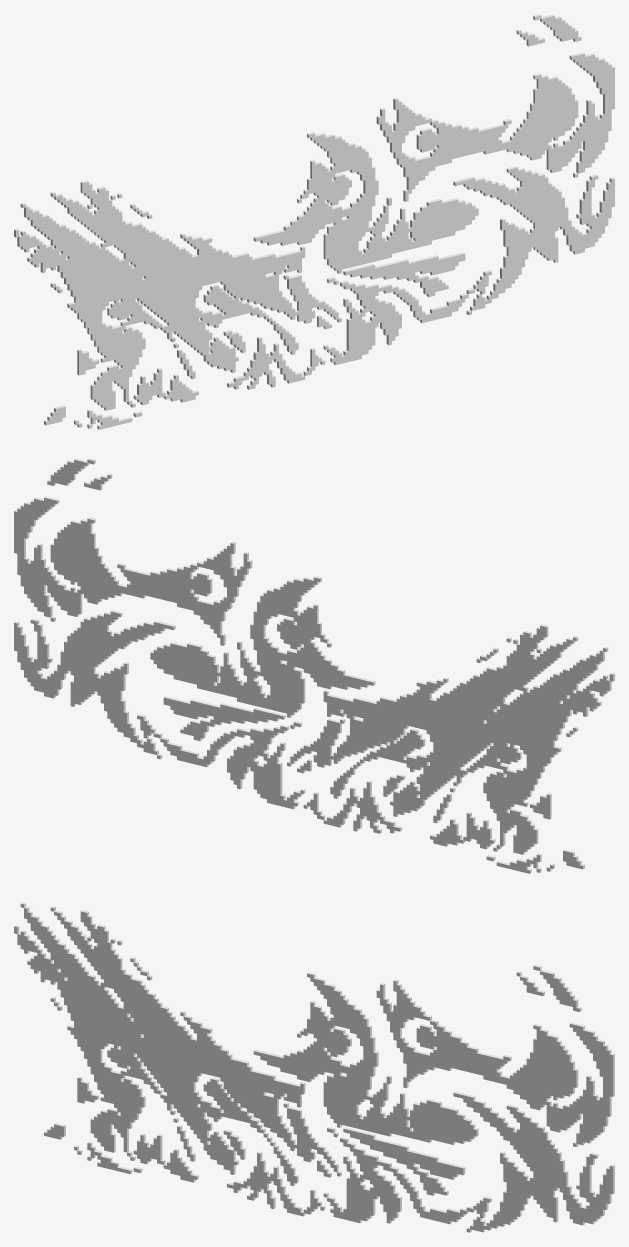
File: Fight_760_2_07_fx.obj
3 renders of one model, top to bottom at view 1: azimuth 30°, elevation 25°; view 2: azimuth 150°, elevation 25°; view 3: azimuth 330°, elevation 25°, orthographic.
Size of the model in its own units: 18 by 8.8 by 0.1.
1 material, 1 textured.
